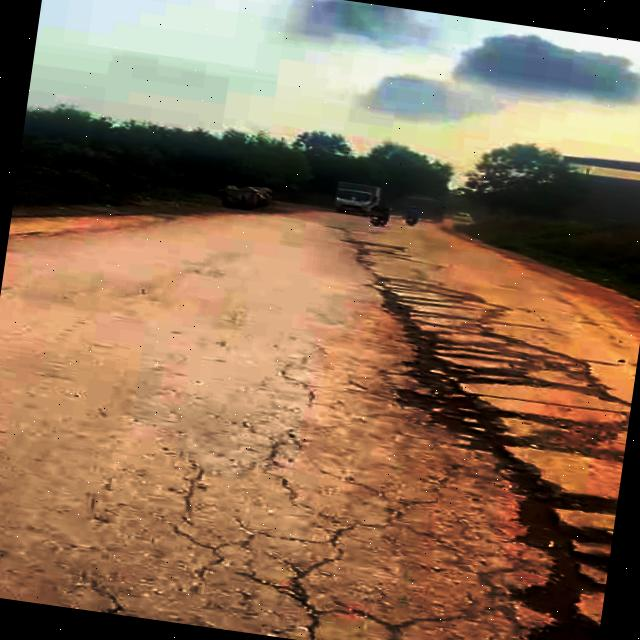pothole: (349, 295, 640, 464), (442, 430, 624, 640)
